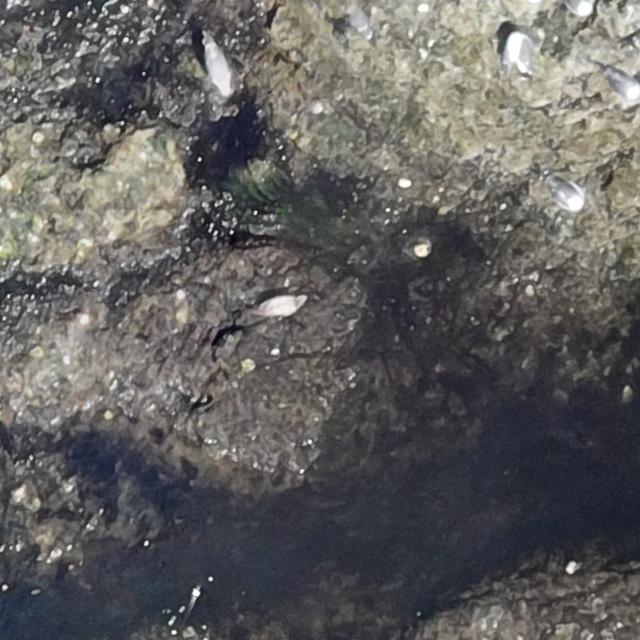umineko: (202, 35, 242, 99), (256, 288, 312, 324), (506, 33, 539, 75), (550, 180, 582, 209), (610, 76, 638, 101)
